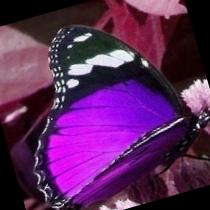butterfly: (32, 24, 210, 210)
